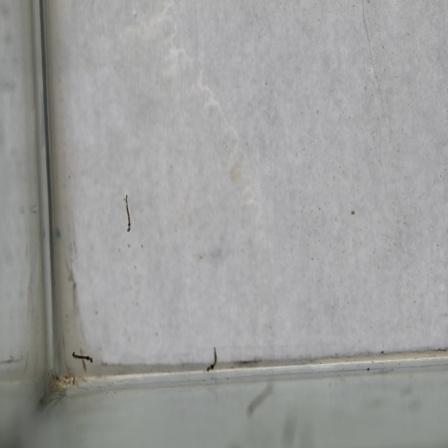Jentik-Nyamuk: (119, 189, 137, 240), (203, 346, 224, 374), (72, 349, 95, 367)
